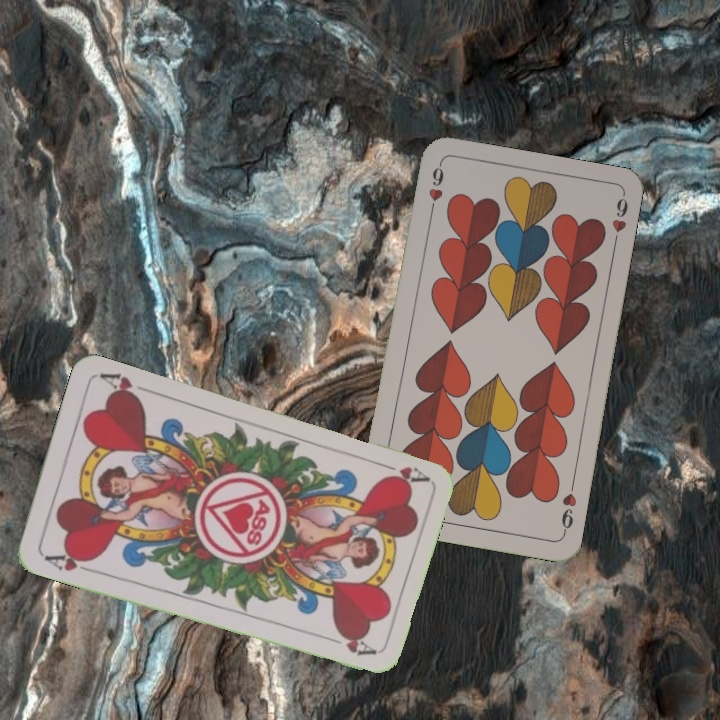H9: (424, 160, 447, 219), (557, 478, 579, 537)
HA: (372, 458, 430, 489), (40, 547, 97, 575)
